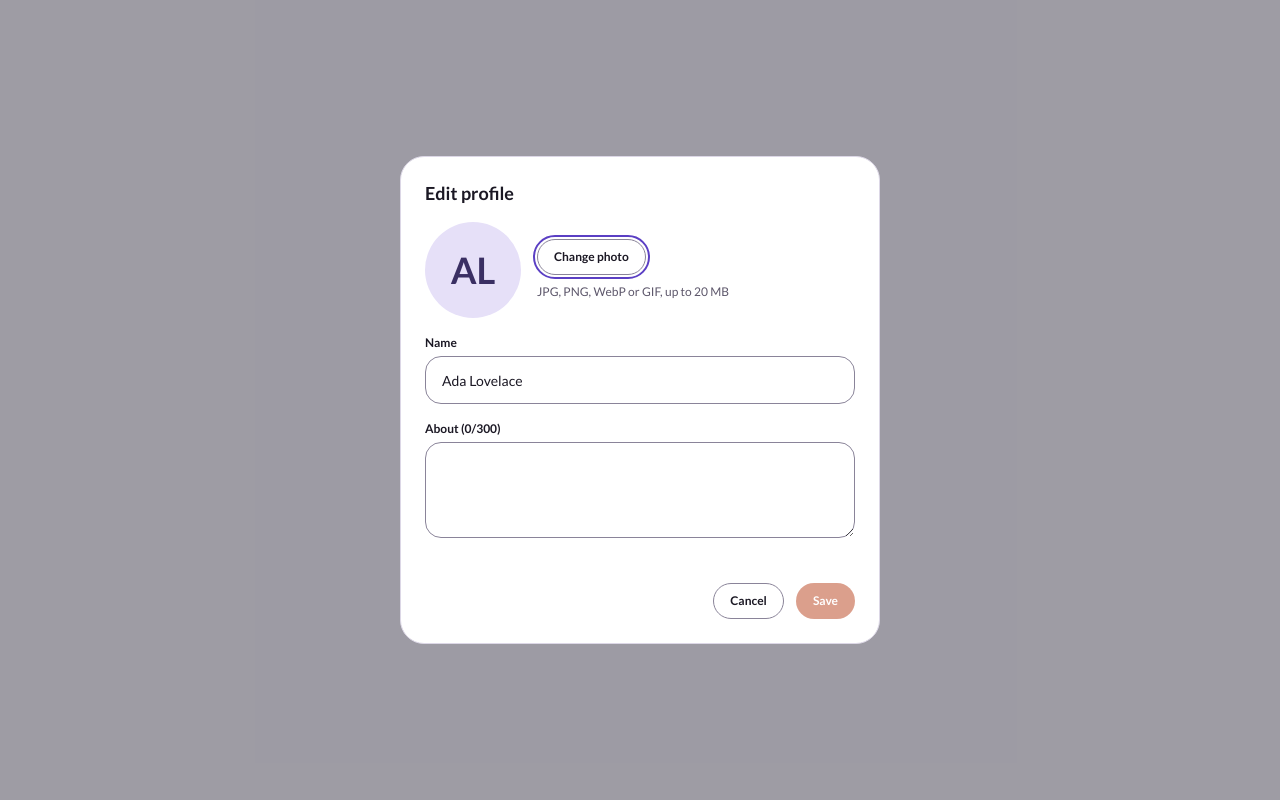
Scenario: EditProfileDialog › stays open and explains a refused save
Type " L." into the field labelled "Name" at (640, 380), box [425,356,855,404]
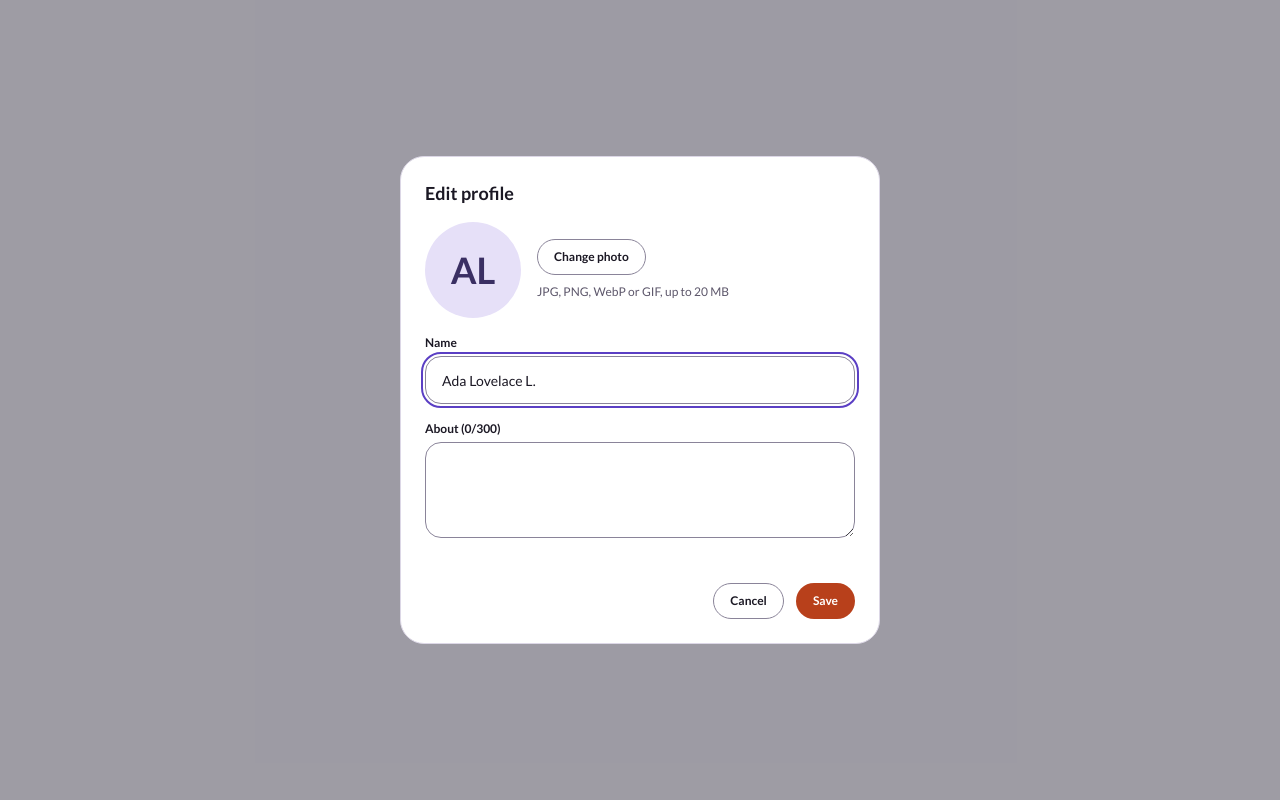
Click the button "Save" at (825, 601), box [796,583,855,619]
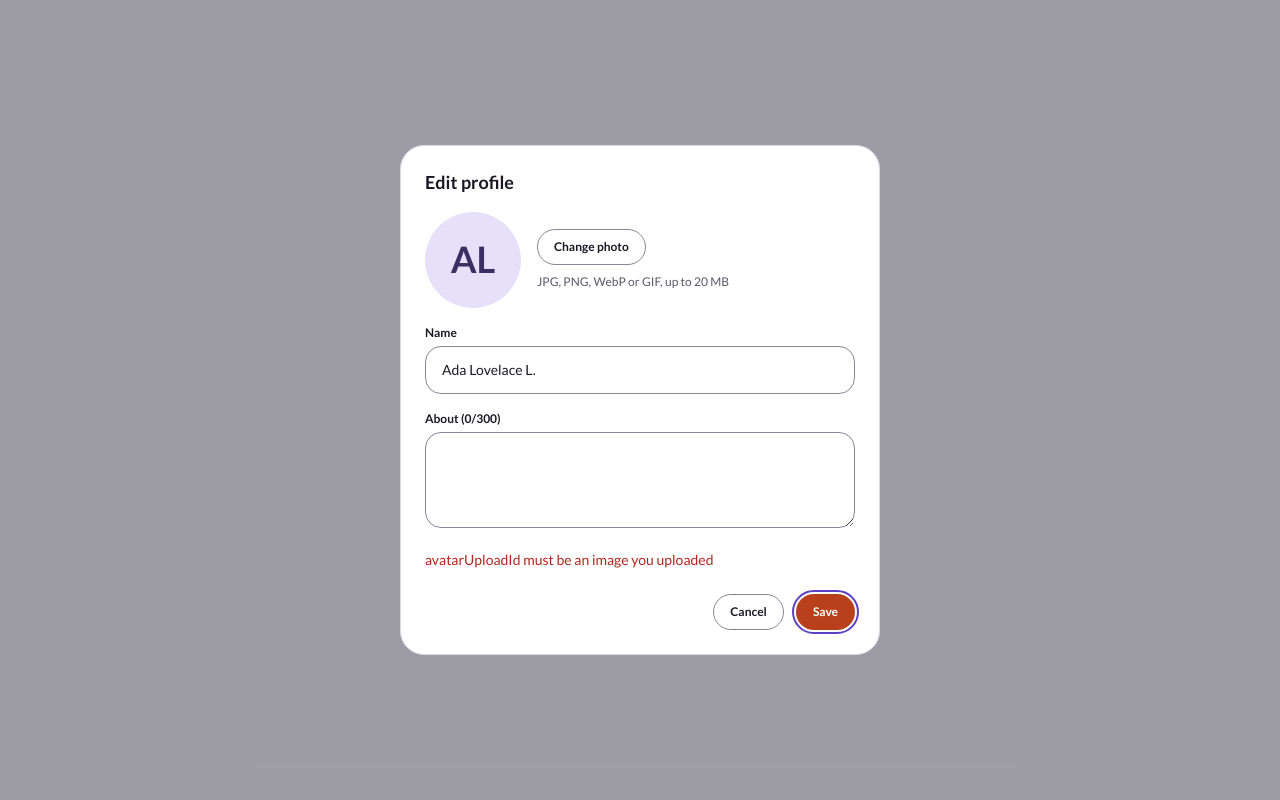
Expected: the message reads "avatarUploadId must be an image you uploaded", [425,551,714,568]
